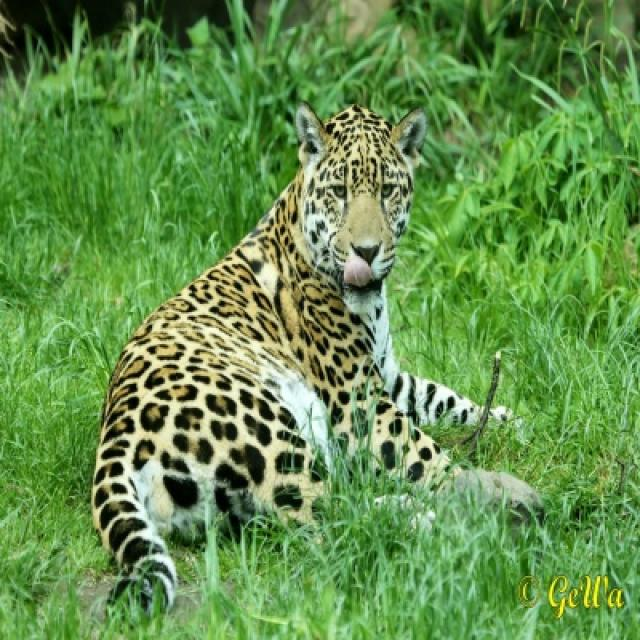Jaguar: (91, 104, 544, 614)
